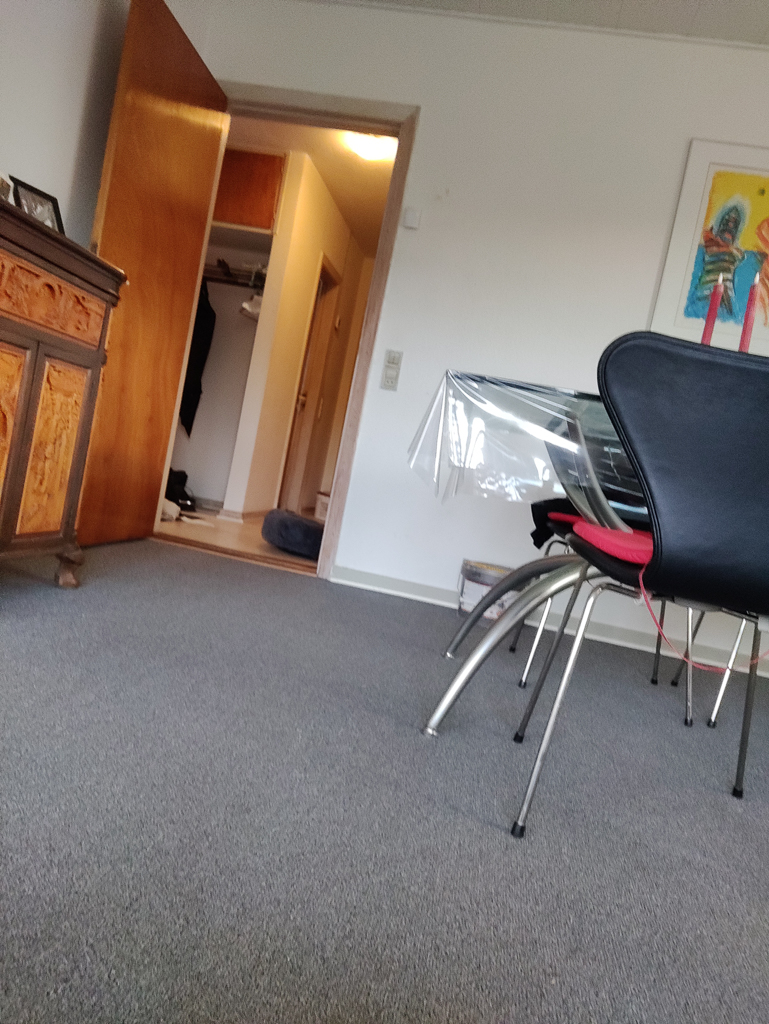Dog: (150, 483, 217, 530)
